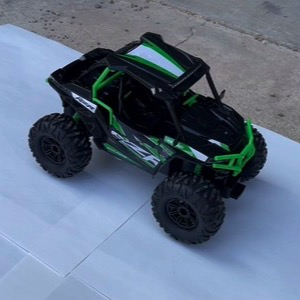polaris: (27, 29, 269, 247)
